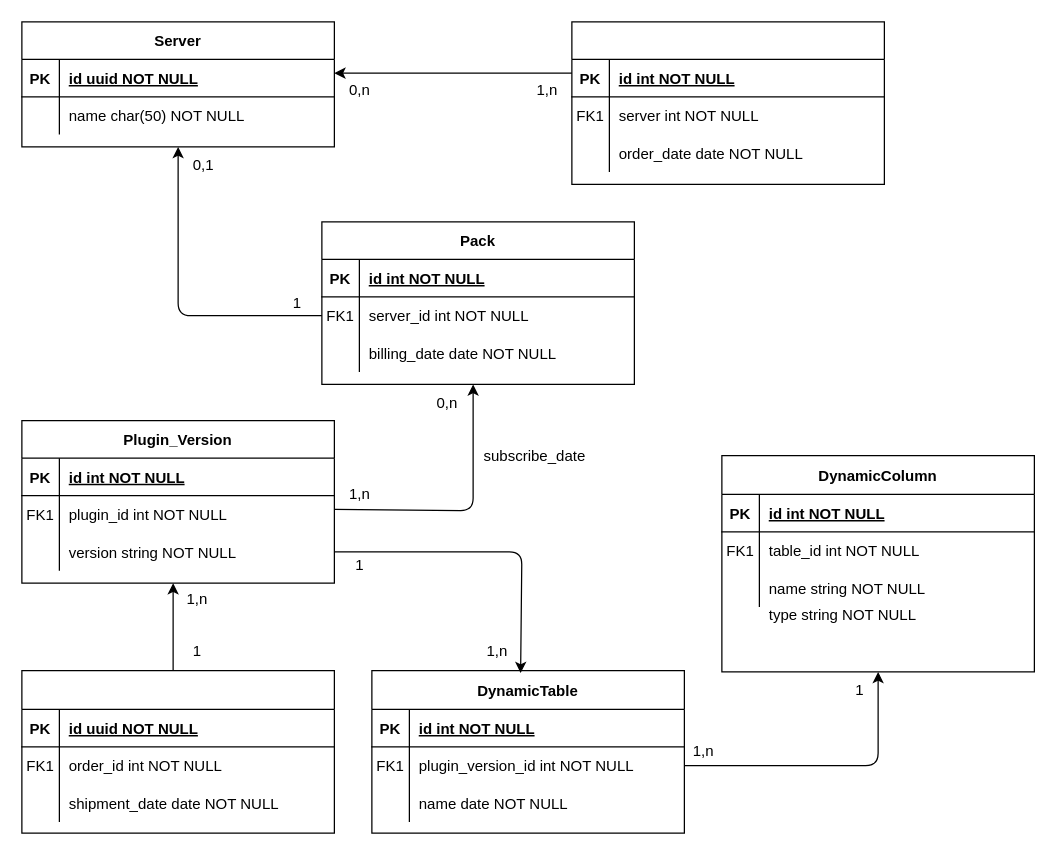
The diagram is 1056 pixels wide and 855 high, and some of its shapes have lost their labels. Each missing label, with the box of its shape:
Client/User: (571, 21, 884, 184)
Plugin: (21, 669, 334, 833)
